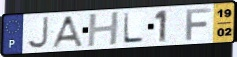1: (154, 9, 169, 44)
A: (49, 15, 85, 49)
F: (185, 7, 213, 41)
H: (86, 10, 121, 48)
J: (26, 16, 50, 50)
L: (122, 12, 146, 45)
